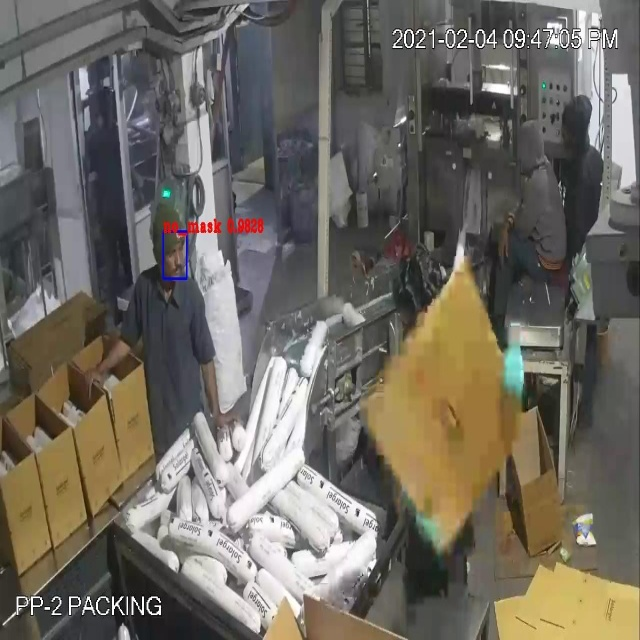Sin_guantes: (79, 319, 143, 404), (197, 340, 241, 436)
